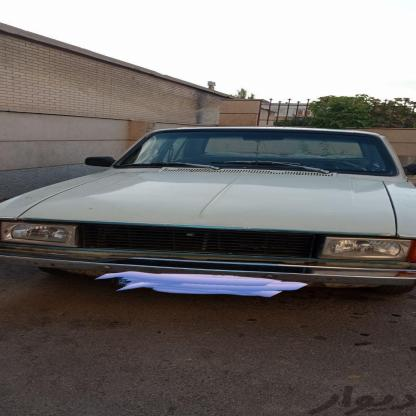Car: (0, 121, 416, 319)
